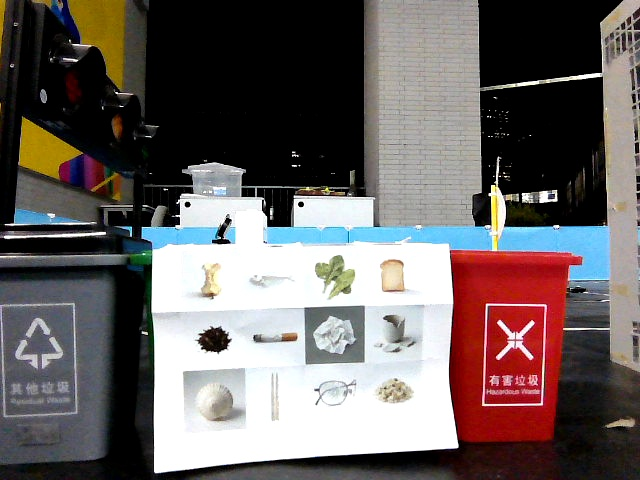food_trash: (242, 255, 301, 307), (186, 251, 235, 308), (188, 315, 243, 364), (309, 253, 360, 305), (371, 366, 421, 413), (373, 257, 417, 303)
other_trash: (188, 377, 245, 429), (305, 310, 363, 360), (305, 366, 363, 415), (247, 313, 302, 364), (247, 372, 299, 423), (369, 307, 422, 356)
